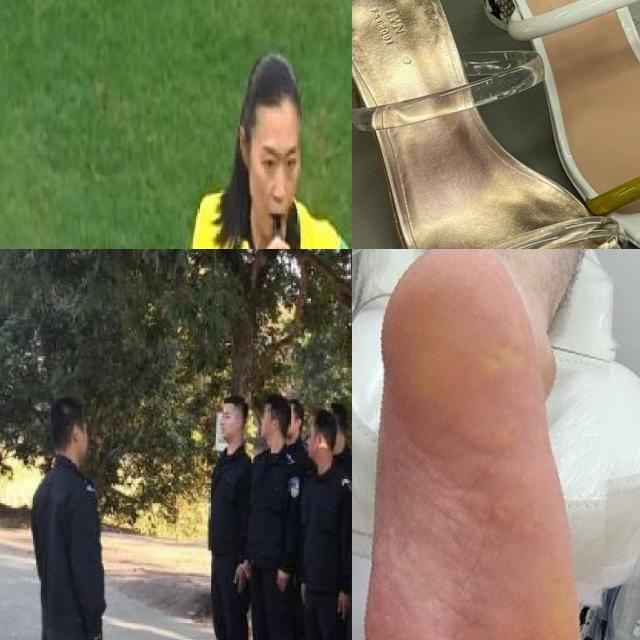Barefoots: (352, 249, 640, 640)
No_Glasses: (258, 143, 304, 177)
Sandals: (352, 0, 640, 249), (470, 0, 640, 249)
face_nomask: (251, 123, 307, 230), (213, 405, 241, 441)
hand_noglove: (336, 593, 350, 619), (274, 568, 288, 593), (233, 562, 245, 591), (298, 580, 308, 602), (242, 560, 250, 576)
head_nohelmet: (236, 54, 304, 121), (42, 393, 88, 459), (262, 392, 284, 418), (213, 396, 245, 413), (308, 413, 330, 436), (328, 402, 348, 419)
person: (179, 30, 352, 249), (14, 389, 128, 640), (193, 397, 254, 640), (302, 412, 352, 640), (254, 402, 297, 640)
